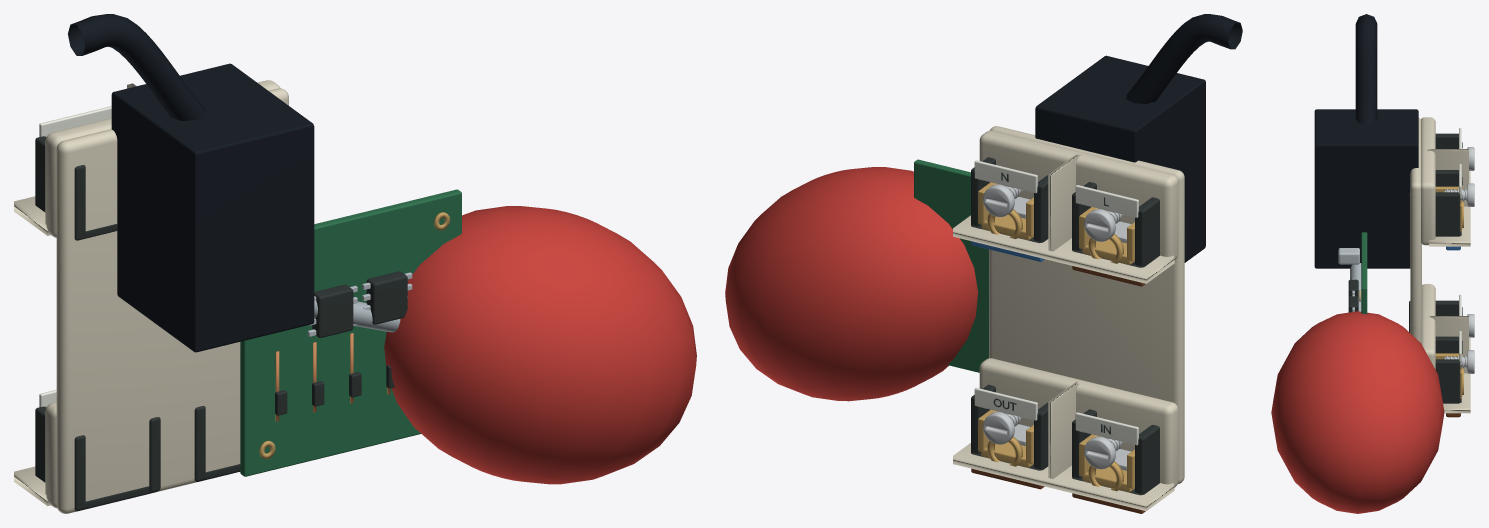
The model's file is sensor_mode_float.glb.
3 views of the same model, side by side, from view 1: azimuth 30°, elevation 25°; view 2: azimuth 150°, elevation 25°; view 3: azimuth 270°, elevation 25° (orthographic). The views are drawn at different scales.
Parts seen in each view (by area): view 1: part:body.001, part:body, part:terminals · Original 5a609f27, FR4 control PCB, part:body.002, detail:sensor-interface · Detail moulded engineering polymer, detail:terminal-clamp:IN · Detail moulded engineering polyme, detail:terminal-clamp:L · Detail moulded engineering polymer, detail:terminal-clamp:OUT · Detail moulded engineering polym, Moulded terminal legend pad; view 2: part:terminals · Original 5a609f27, part:body.001, part:body, FR4 control PCB, part:body.002, detail:terminal-clamp:L · Detail moulded engineering polymer, detail:terminal-clamp:IN · Detail moulded engineering polyme, detail:terminal-clamp:N · Detail moulded engineering polymer, detail:terminal-clamp:OUT · Detail moulded engineering polym, detail:terminal-clamp:IN · Detail machined brass, detail:terminal-clamp:N · Detail machined brass, detail:terminal-clamp:OUT · Detail machined brass (+9 smaller); view 3: part:body.001, part:body, part:terminals · Original 5a609f27, part:body.002, detail:terminal-clamp:N · Detail moulded engineering polymer, detail:terminal-clamp:OUT · Detail moulded engineering polym, FR4 control PCB, detail:terminal-clamp:IN · Detail moulded engineering polyme, detail:terminal-clamp:L · Detail moulded engineering polymer, detail:sensor-transducer · Detail brushed stainless steel, detail:sensor-interface · Detail moulded engineering polymer, detail:terminal-clamp:N · Detail zinc plated fixing (+1 smaller).
Part boxes in pixels (x1=…): part:body.001: x1=314, y1=206, x2=696, y2=484; part:body: x1=111, y1=63, x2=314, y2=352; part:terminals · Original 5a609f27: x1=14, y1=80, x2=288, y2=513; FR4 control PCB: x1=240, y1=189, x2=461, y2=476; part:body.002: x1=68, y1=14, x2=206, y2=120; detail:sensor-interface · Detail moulded engineering polymer: x1=275, y1=271, x2=407, y2=415; detail:terminal-clamp:IN · Detail moulded engineering polyme: x1=35, y1=406, x2=160, y2=511; detail:terminal-clamp:L · Detail moulded engineering polymer: x1=35, y1=136, x2=117, y2=240; detail:terminal-clamp:OUT · Detail moulded engineering polym: x1=194, y1=406, x2=240, y2=481; Moulded terminal legend pad: x1=39, y1=106, x2=111, y2=136; part:terminals · Original 5a609f27: x1=953, y1=126, x2=1184, y2=511; part:body.001: x1=725, y1=167, x2=977, y2=401; part:body: x1=1035, y1=55, x2=1205, y2=262; FR4 control PCB: x1=914, y1=159, x2=988, y2=372; part:body.002: x1=1126, y1=14, x2=1242, y2=103; detail:terminal-clamp:L · Detail moulded engineering polymer: x1=1072, y1=182, x2=1159, y2=267; detail:terminal-clamp:IN · Detail moulded engineering polyme: x1=1072, y1=409, x2=1159, y2=495; detail:terminal-clamp:N · Detail moulded engineering polymer: x1=971, y1=157, x2=1048, y2=243; detail:terminal-clamp:OUT · Detail moulded engineering polym: x1=971, y1=384, x2=1048, y2=470; detail:terminal-clamp:IN · Detail machined brass: x1=1079, y1=434, x2=1134, y2=492; detail:terminal-clamp:N · Detail machined brass: x1=978, y1=182, x2=1033, y2=240; detail:terminal-clamp:OUT · Detail machined brass: x1=978, y1=409, x2=1033, y2=467; part:body.001: x1=1271, y1=263, x2=1444, y2=513; part:body: x1=1314, y1=109, x2=1418, y2=268; part:terminals · Original 5a609f27: x1=1410, y1=117, x2=1470, y2=413; part:body.002: x1=1355, y1=14, x2=1377, y2=124; detail:terminal-clamp:N · Detail moulded engineering polymer: x1=1409, y1=170, x2=1461, y2=239; detail:terminal-clamp:OUT · Detail moulded engineering polym: x1=1435, y1=336, x2=1461, y2=403; FR4 control PCB: x1=1361, y1=232, x2=1367, y2=314; detail:terminal-clamp:IN · Detail moulded engineering polyme: x1=1409, y1=300, x2=1458, y2=332; detail:terminal-clamp:L · Detail moulded engineering polymer: x1=1435, y1=133, x2=1458, y2=148; detail:sensor-transducer · Detail brushed stainless steel: x1=1338, y1=248, x2=1359, y2=264; detail:sensor-interface · Detail moulded engineering polymer: x1=1348, y1=279, x2=1358, y2=312; detail:terminal-clamp:N · Detail zinc plated fixing: x1=1444, y1=183, x2=1474, y2=206.
Bounding box in the file's own units: 0.9289 × 0.8313 × 0.442.
